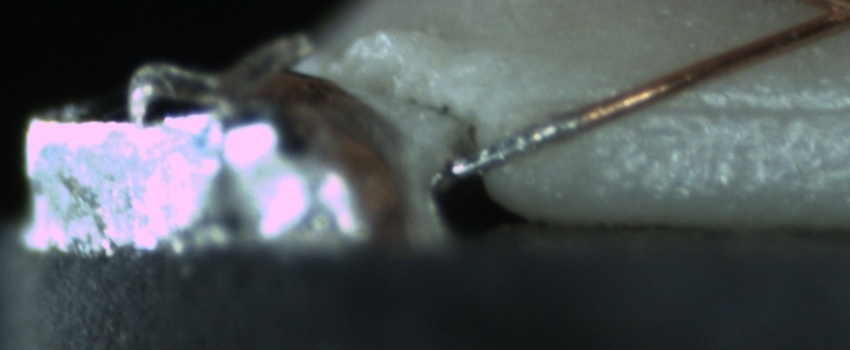DL: (612, 74, 845, 146)
TS: (450, 113, 580, 178)
